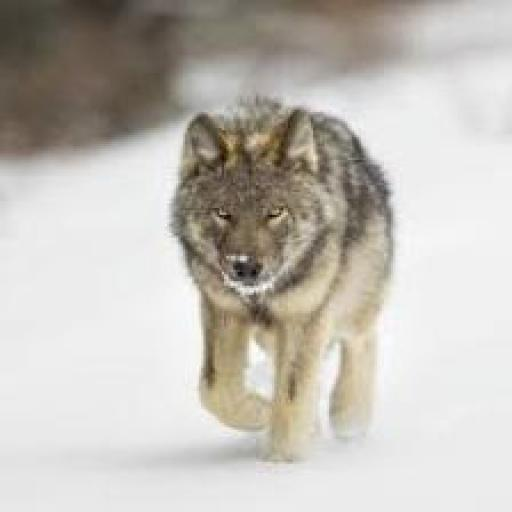wolf: (148, 91, 423, 494)
